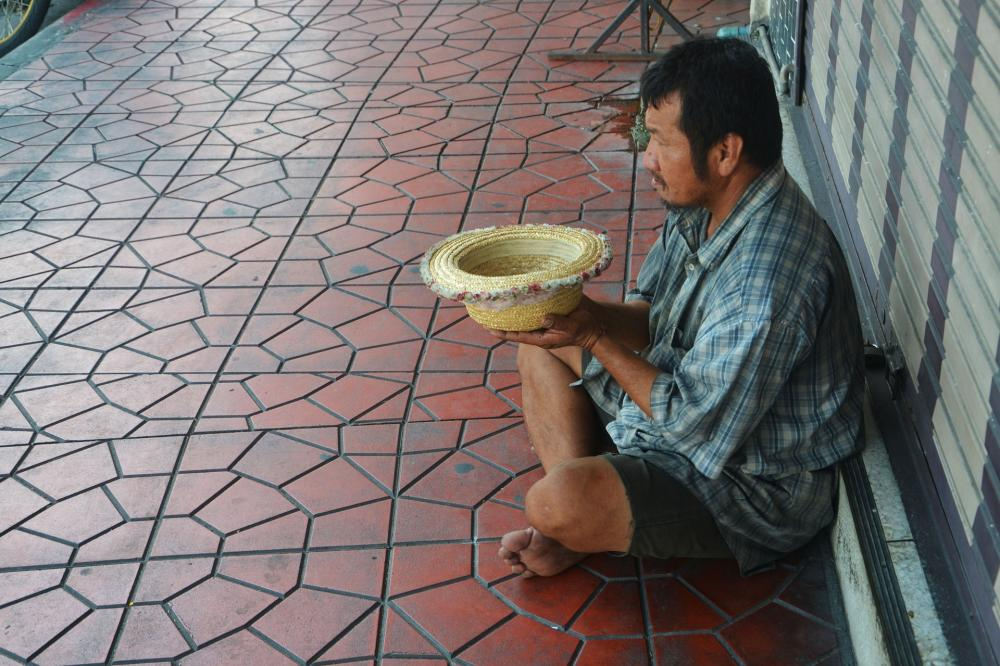gelandangan: (409, 37, 891, 599)
